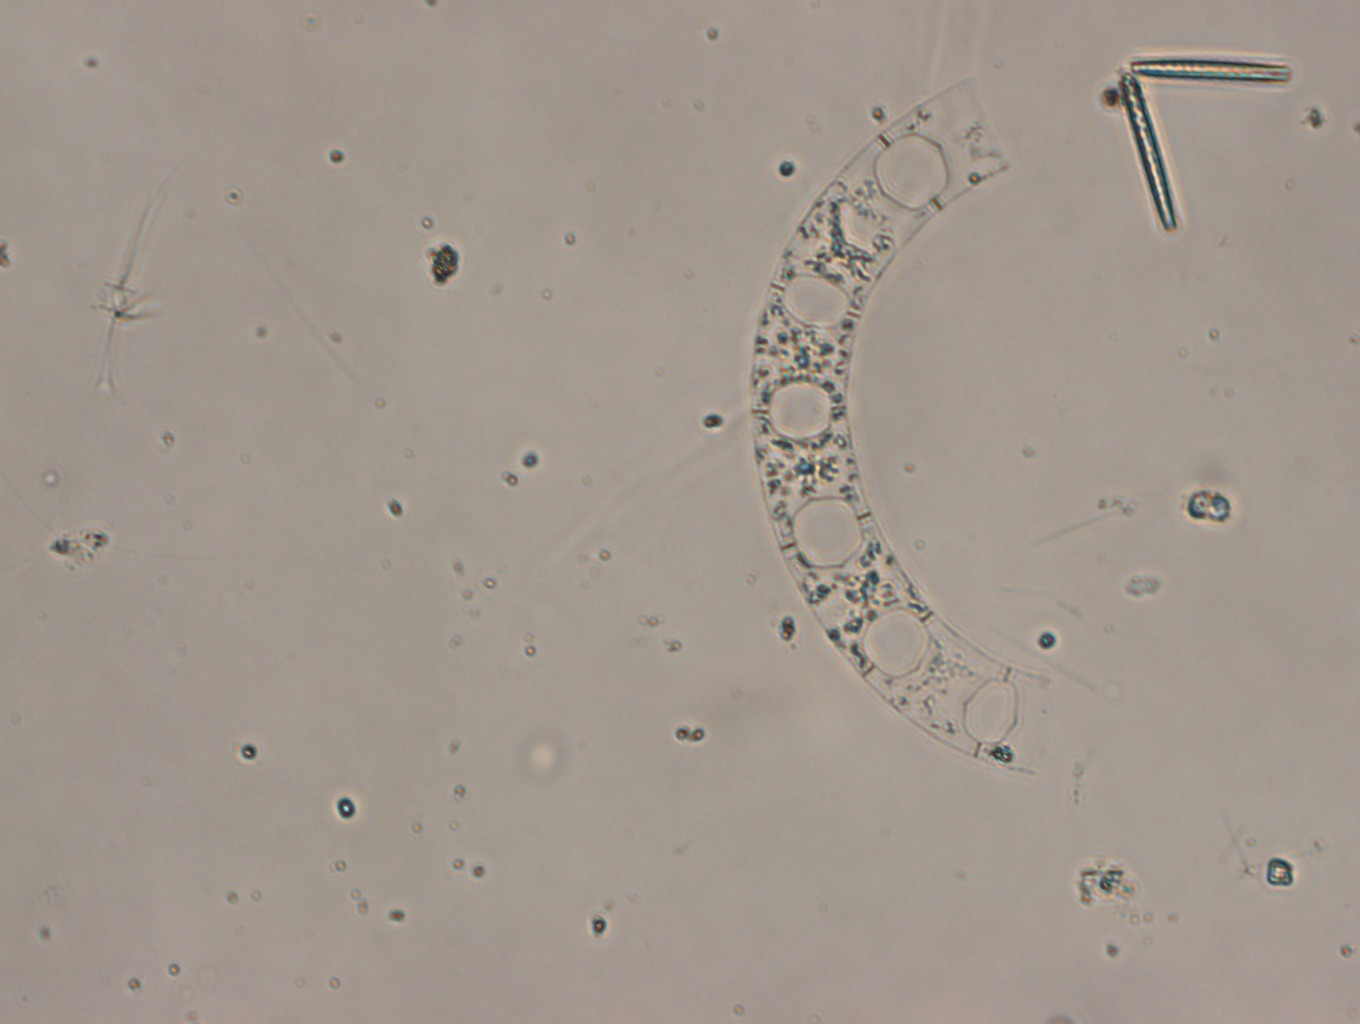eucampia: (750, 76, 1050, 777)
thalassionema nitzschioides: (1119, 57, 1292, 230)
